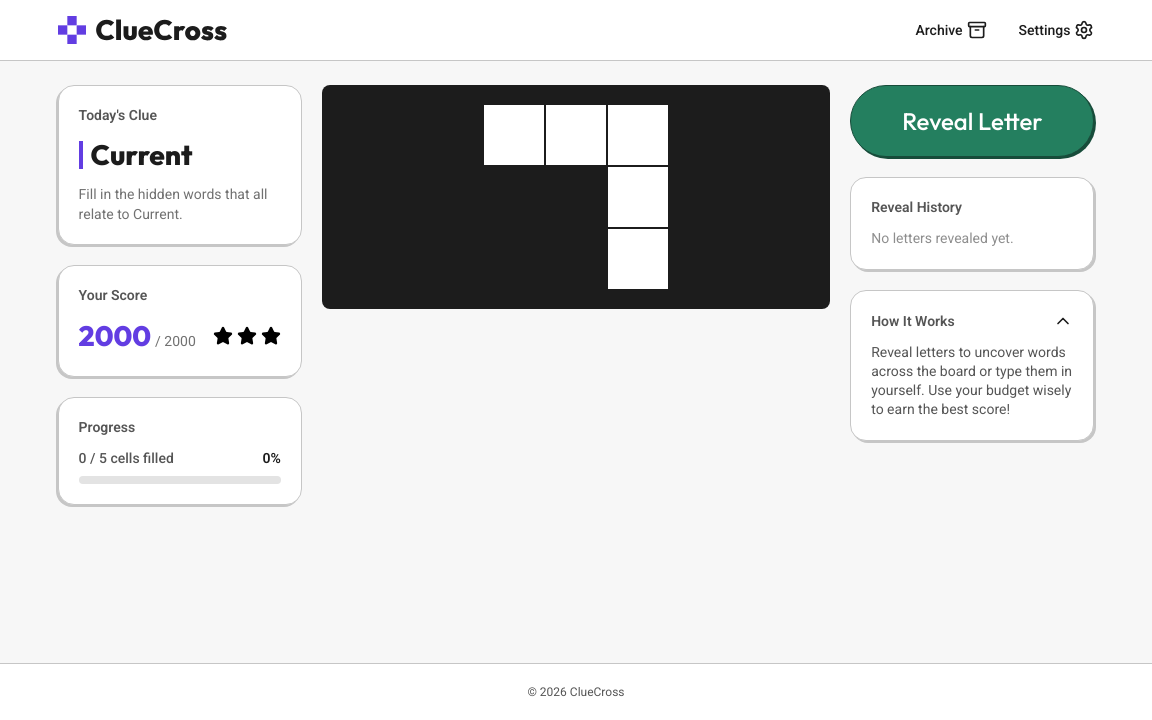
Archive availability › enables released dates and disables gaps and unreleased dates
This screenshot has width=1152, height=720.
Click the button "Archive".
click(951, 30)  # box [916,20,987,40]
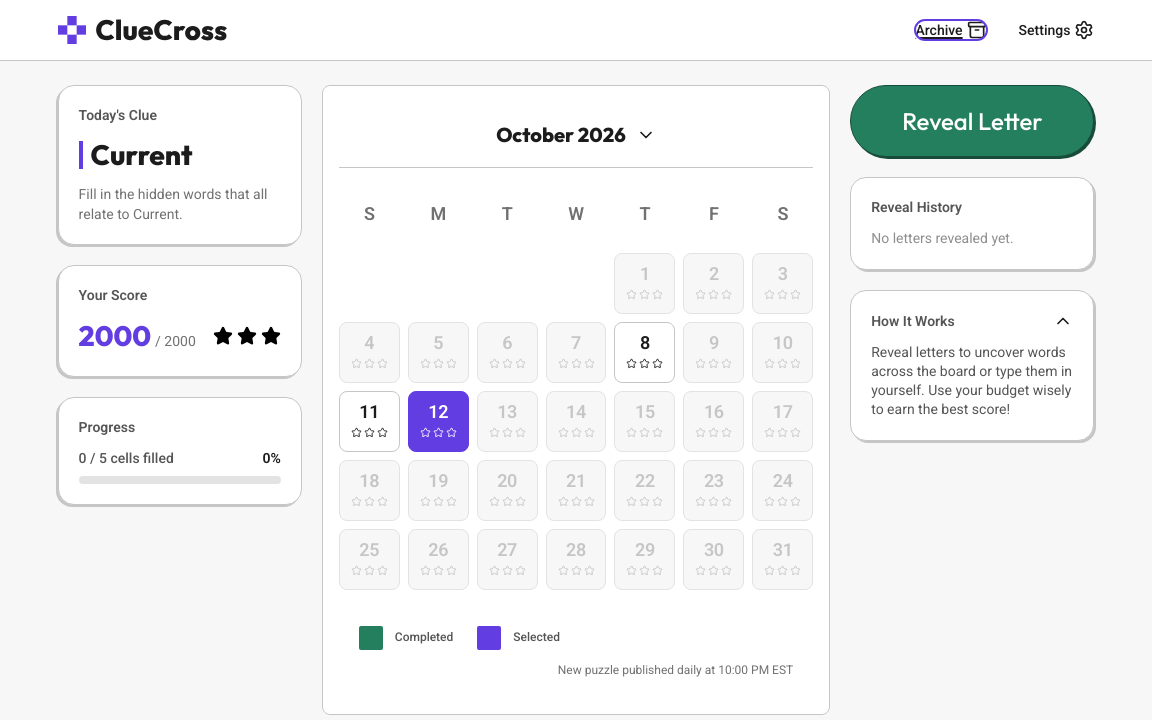
Now the button named "october 10, 2026, no puzzle available" is shown, box [752,322,813,383]
Now the button named "october 9, 2026, no puzzle available" is shown, box [683,322,744,383]
Now the button named "october 13, 2026, puzzle not yet available" is shown, box [477,391,538,452]
